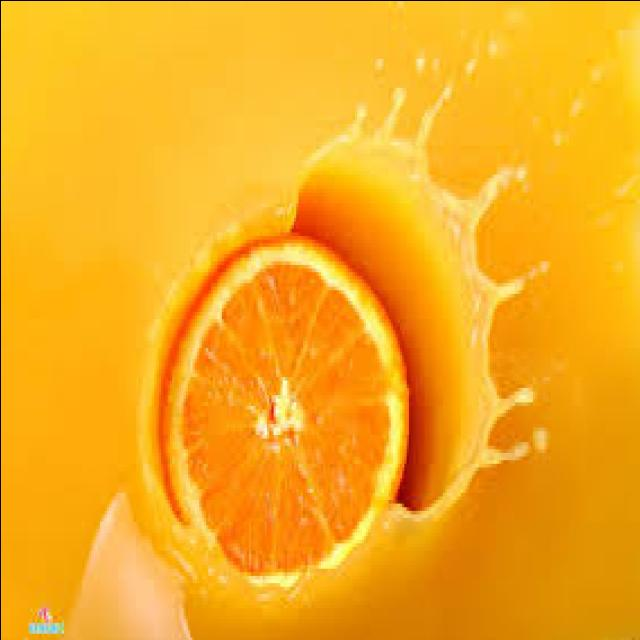orange: (141, 238, 407, 584)
